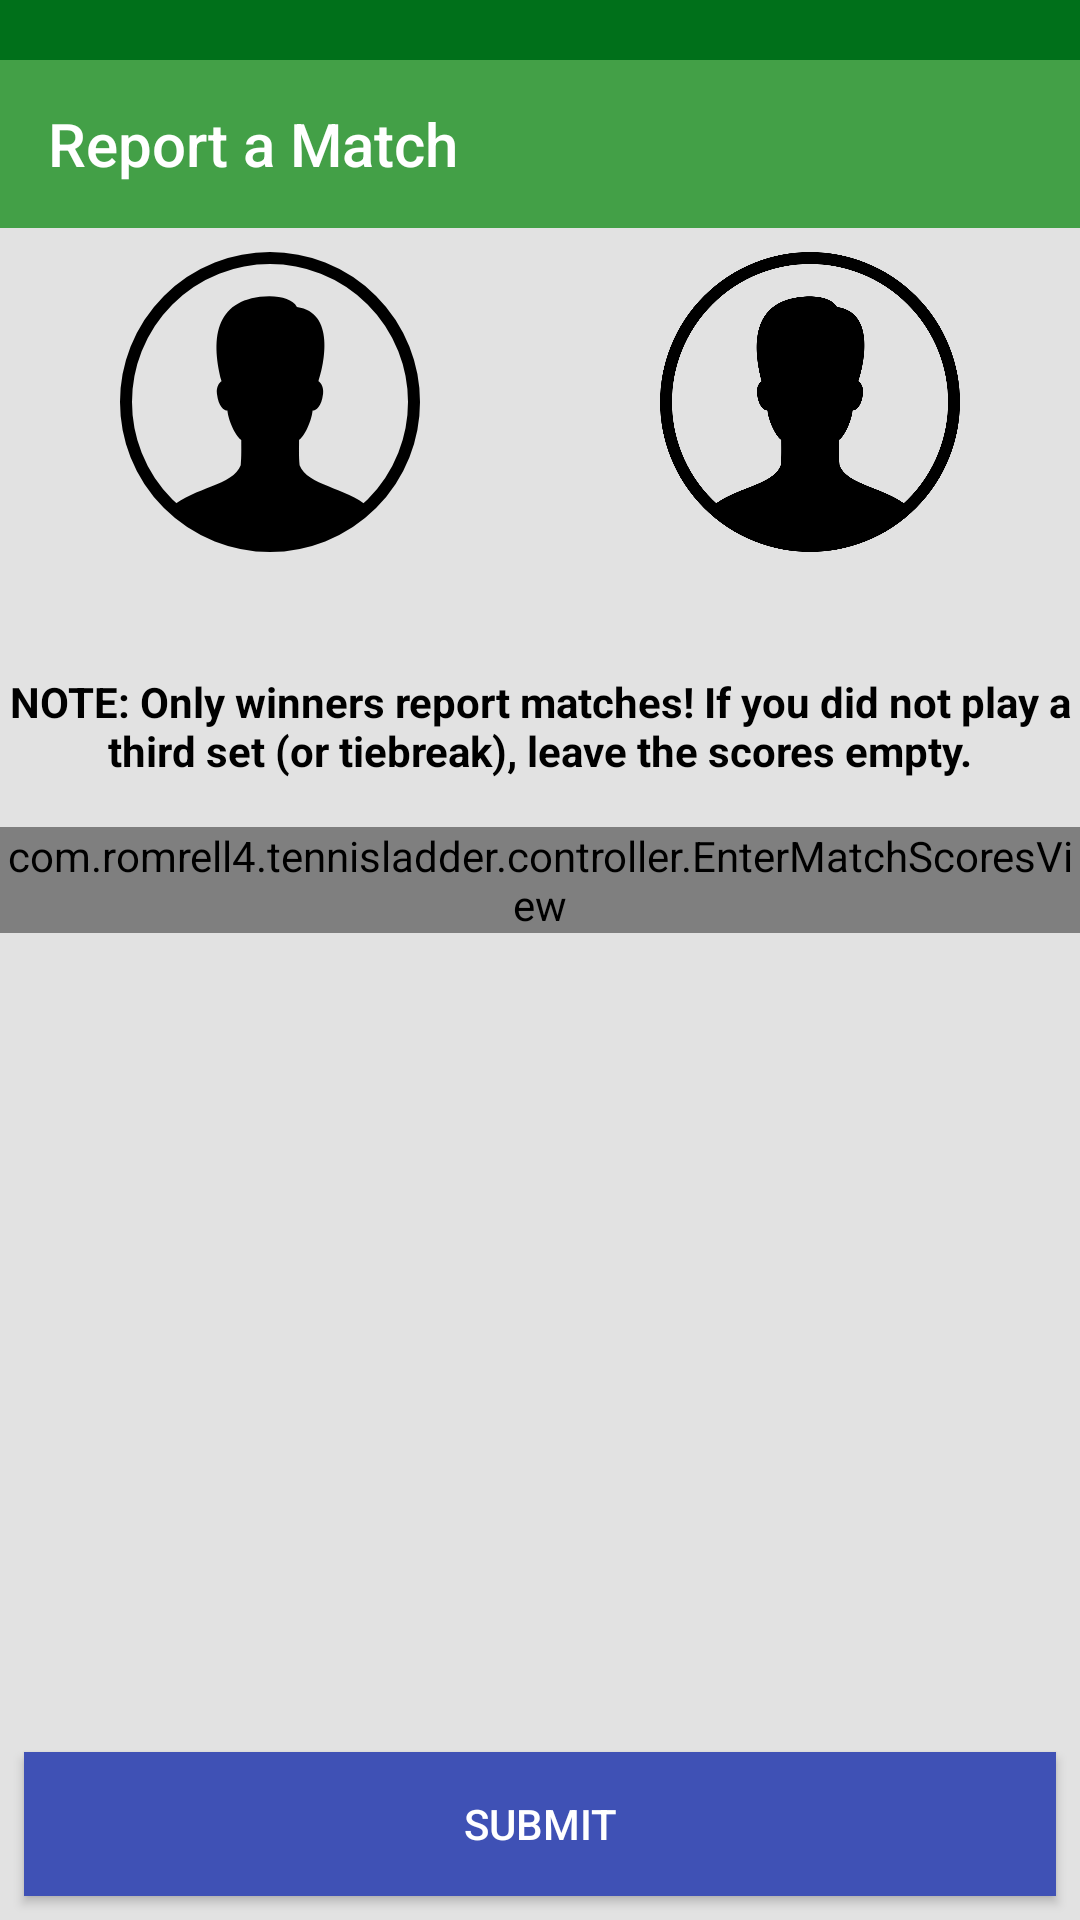

Screen size 1080px×1920px. Icon name, then its box in pixels as [left=x1, top=y1, right=x2, bottom=y2]:
Profile picture: [left=120, top=252, right=420, bottom=552], [left=660, top=252, right=960, bottom=552]
